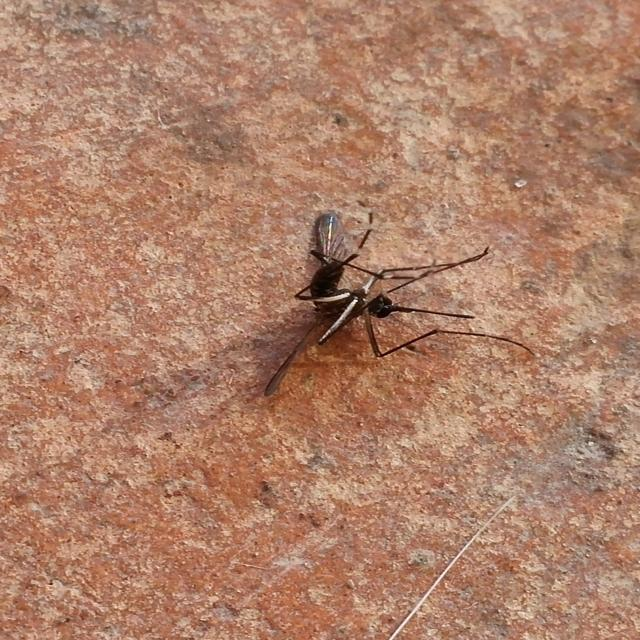albopictus: (255, 199, 533, 390)
